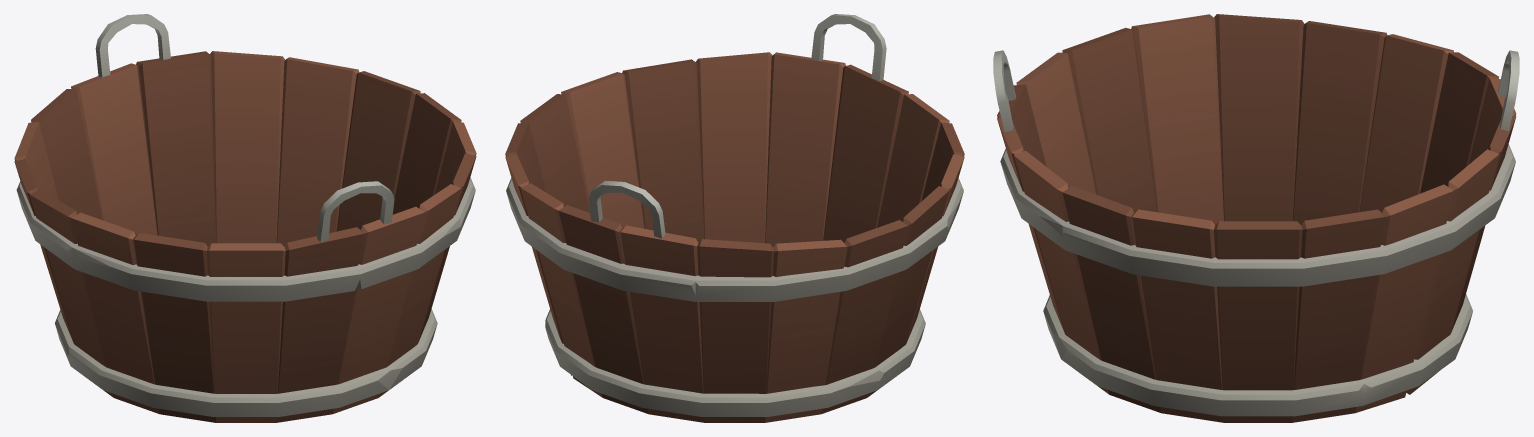
File: Basin_B.glb
3 views of the same model, side by side, from view 1: azimuth 30°, elevation 25°; view 2: azimuth 150°, elevation 25°; view 3: azimuth 270°, elevation 25° (orthographic). The views are drawn at different scales.
Parts seen in each view (by area): view 1: Basin_B; view 2: Basin_B; view 3: Basin_B.
Part boxes in pixels (x1=…): Basin_B: x1=14, y1=14, x2=476, y2=422; Basin_B: x1=505, y1=14, x2=964, y2=422; Basin_B: x1=993, y1=14, x2=1519, y2=422.
Size of the model in its own units: 1.14 by 0.6978 by 1.17.
2 materials, 2 textured.
